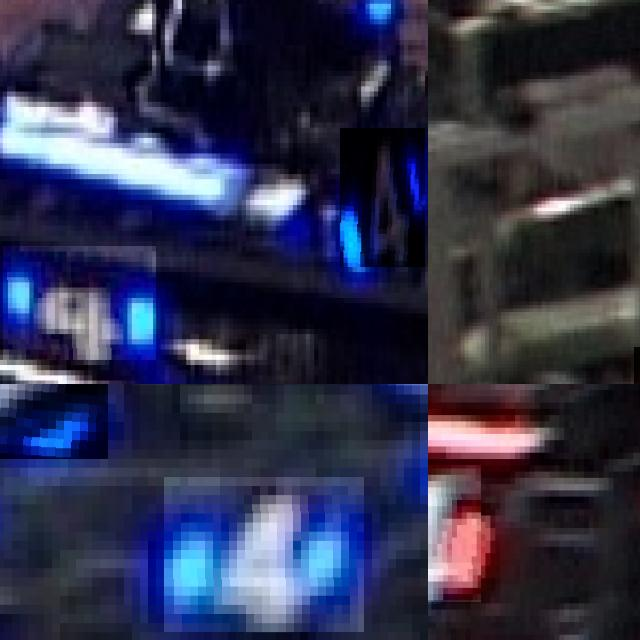B4: (164, 477, 364, 632), (3, 246, 156, 360), (340, 128, 425, 267), (0, 384, 108, 458)
R4: (428, 465, 480, 603)
